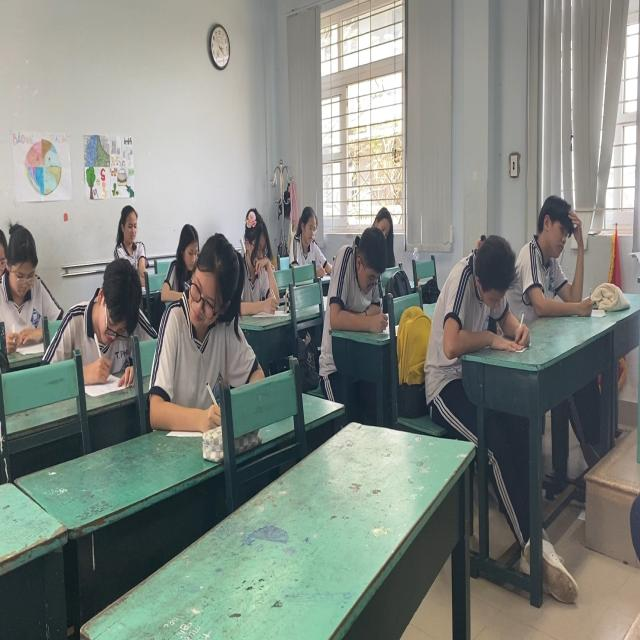cheating: (170, 218, 248, 398)
not_cheating: (433, 216, 518, 356), (509, 181, 594, 315), (73, 257, 157, 363), (0, 192, 58, 326), (325, 219, 386, 343), (237, 201, 287, 326), (287, 180, 326, 274), (116, 198, 141, 264)
